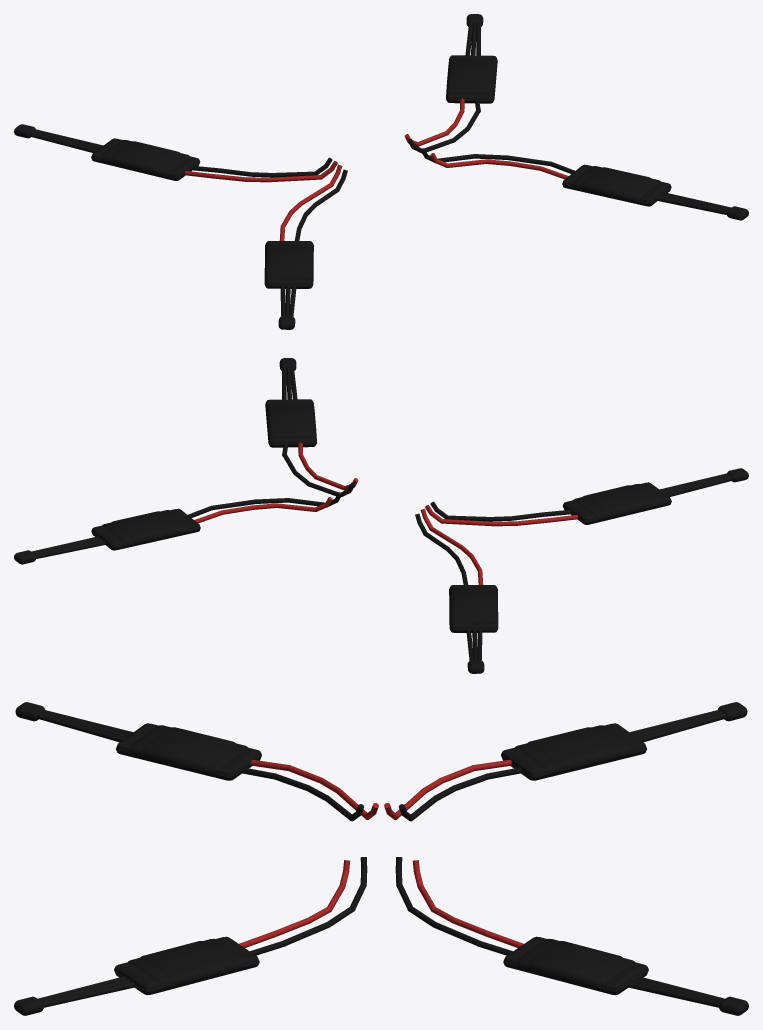
File: controller3.dae
3 views of the same model, one above another, from view 1: azimuth 30°, elevation 25°; view 2: azimuth 150°, elevation 25°; view 3: azimuth 270°, elevation 25° (orthographic). The views are drawn at different scales.
Visible parts, largest first — view 1: Würfel.2 (×2), Würfel (×2), Würfel.1 (×2), Kabel.1; view 2: Würfel.2 (×2), Würfel (×2), Würfel.1 (×2), Kabel.1; view 3: Würfel.2 (×2), Würfel (×2), Würfel.1 (×2), Kabel.2 (×2), Schrumpfschlauch_Motor (×2), Kabel (×2), Kabel.1 (×2), Kabel.8.
Part boxes in pixels (x1=…): Würfel.2 (×2): x1=111, y1=62, x2=651, y2=273; Würfel (×2): x1=91, y1=55, x2=671, y2=288; Würfel.1 (×2): x1=101, y1=59, x2=660, y2=279; Kabel.1: x1=465, y1=23, x2=727, y2=214; Würfel.2 (×2): x1=111, y1=406, x2=651, y2=617; Würfel (×2): x1=91, y1=399, x2=671, y2=632; Würfel.1 (×2): x1=102, y1=403, x2=661, y2=623; Kabel.1: x1=35, y1=367, x2=297, y2=558; Würfel.2 (×2): x1=140, y1=727, x2=622, y2=984; Würfel (×2): x1=114, y1=723, x2=648, y2=995; Würfel.1 (×2): x1=128, y1=725, x2=634, y2=987; Kabel.2 (×2): x1=37, y1=713, x2=725, y2=1007; Schrumpfschlauch_Motor (×2): x1=14, y1=702, x2=748, y2=1015; Kabel (×2): x1=40, y1=711, x2=722, y2=1001; Kabel.1 (×2): x1=38, y1=710, x2=724, y2=999; Kabel.8: x1=283, y1=922, x2=479, y2=945.
Size of the model in its own units: 588 by 29.2 by 595.
